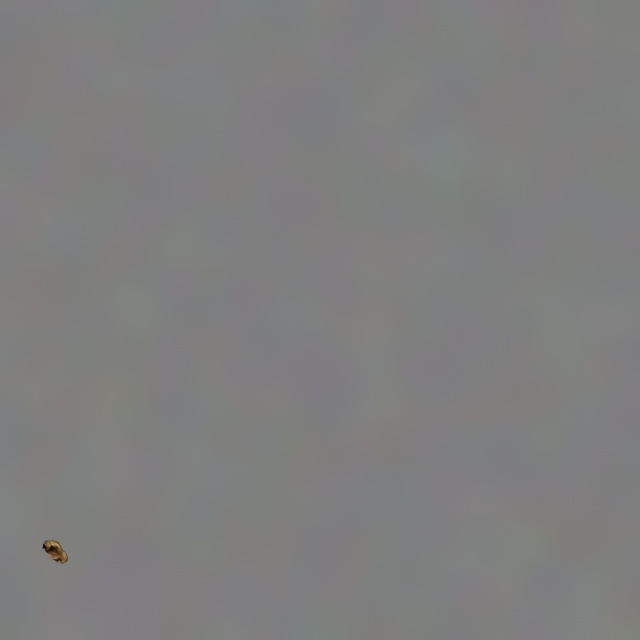dahlia: (43, 541, 67, 563)
